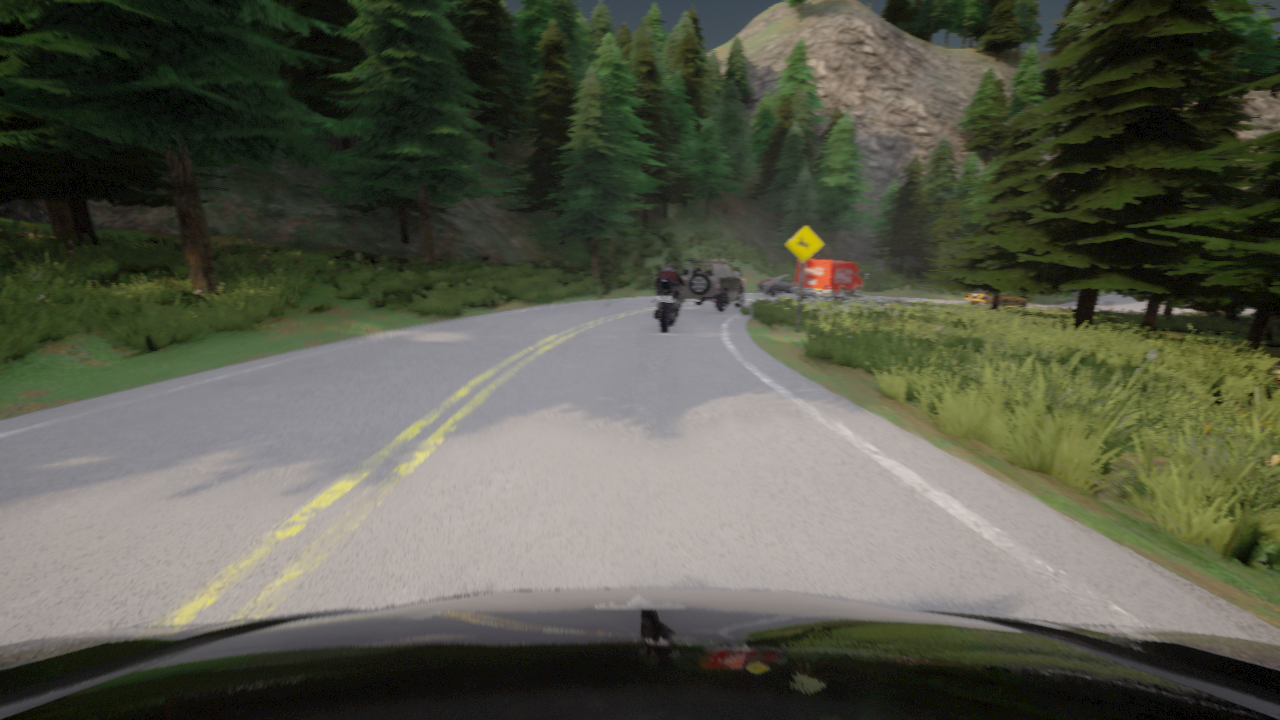cyclist: (0, 588, 1279, 719), (676, 259, 745, 312), (791, 259, 868, 301), (653, 276, 688, 332), (756, 274, 820, 298), (965, 290, 1028, 306)
